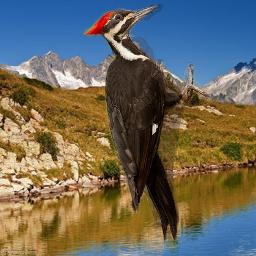Woodpecker: (83, 4, 211, 244)
